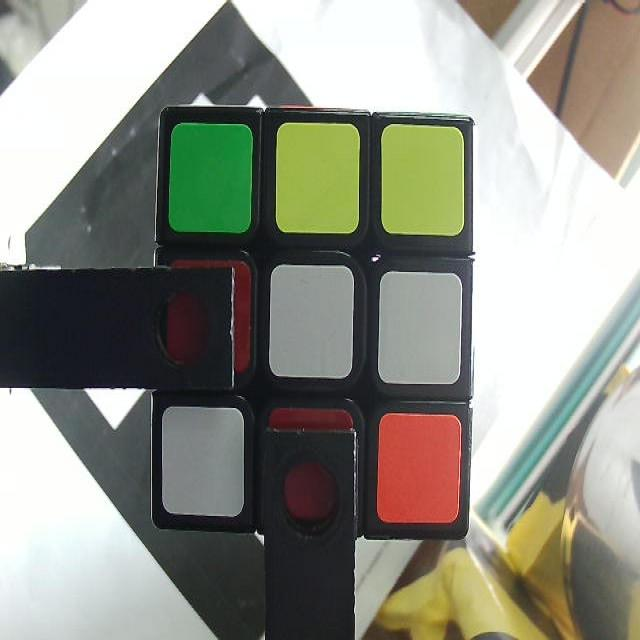g: (170, 128, 250, 231)
o: (378, 412, 462, 526)
r: (268, 414, 352, 529), (169, 266, 248, 372)
w: (380, 268, 463, 382), (162, 408, 245, 517), (272, 266, 352, 378)
y: (384, 125, 464, 232), (280, 130, 359, 232)
